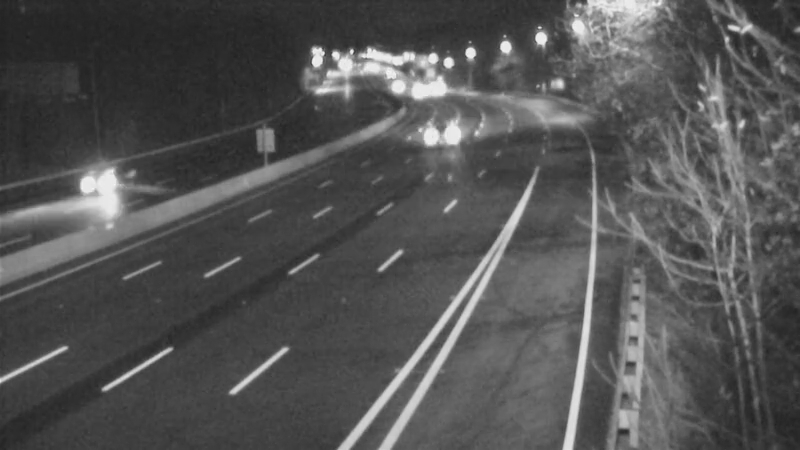vehicle: (61, 147, 141, 227), (366, 57, 416, 107), (389, 63, 439, 113), (407, 64, 457, 114), (394, 69, 444, 119), (420, 106, 470, 156)
